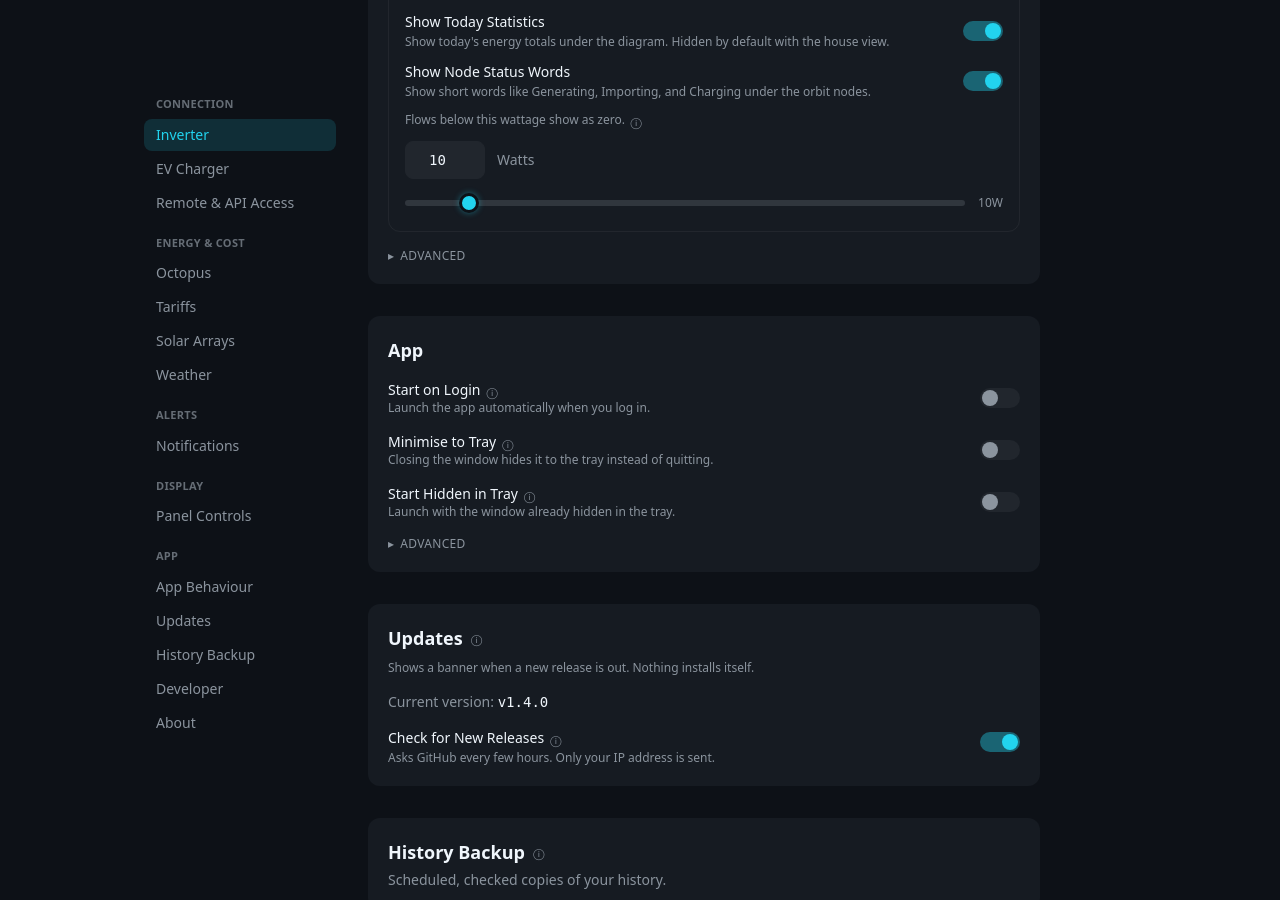
<SettingsPage/> — Start on Login (Tauri shell) › puts Minimise to Tray back when the save fails
(page scrolled)
Expected: the text "Minimise to Tray" is shown, 388,432 -> 496,451
Click the switch named "Minimise to Tray" at (1000, 450), box 980,440 -> 1020,460
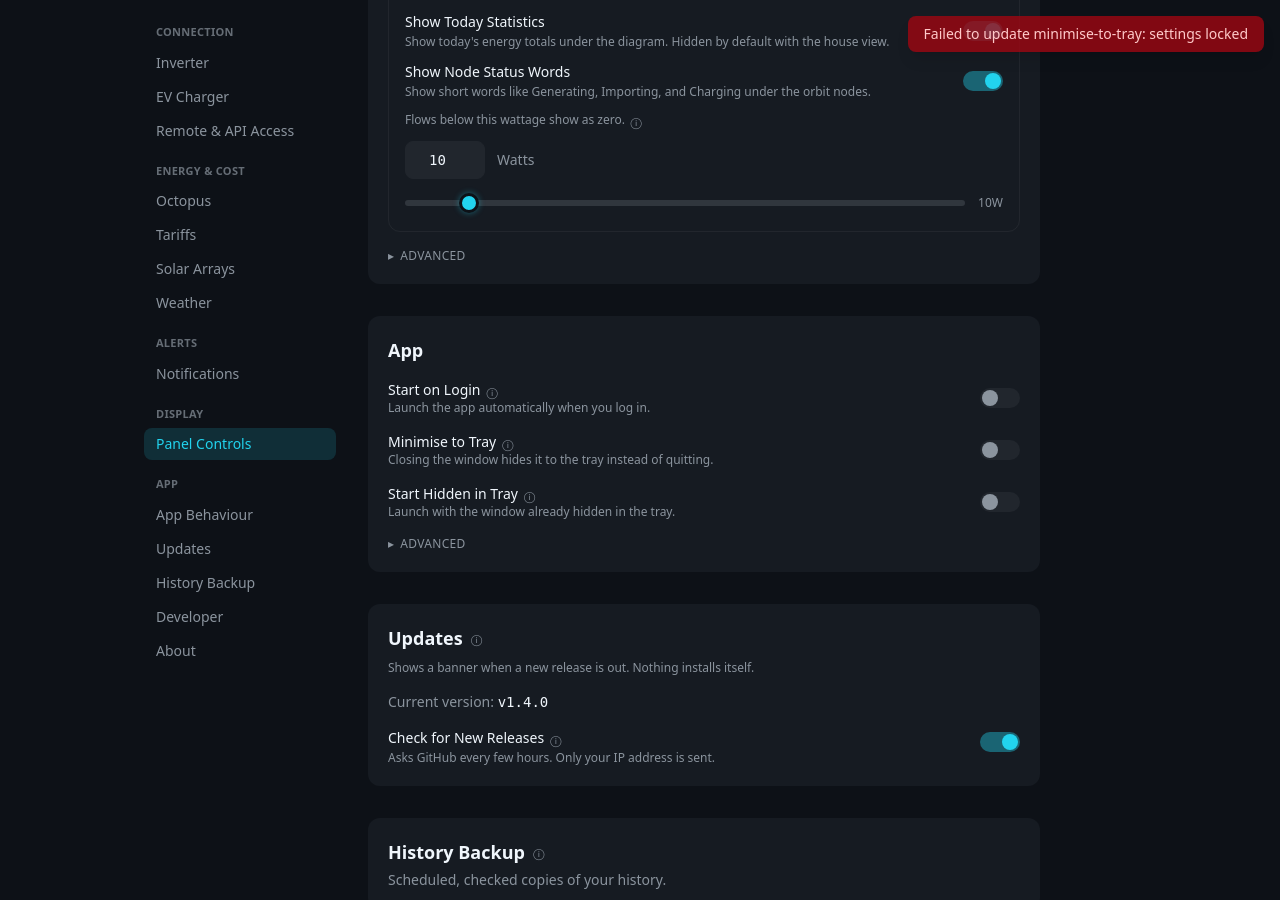
Expected: the text "Failed to update minimise-to-tray: settings locked" is shown, 908,16 -> 1264,52
